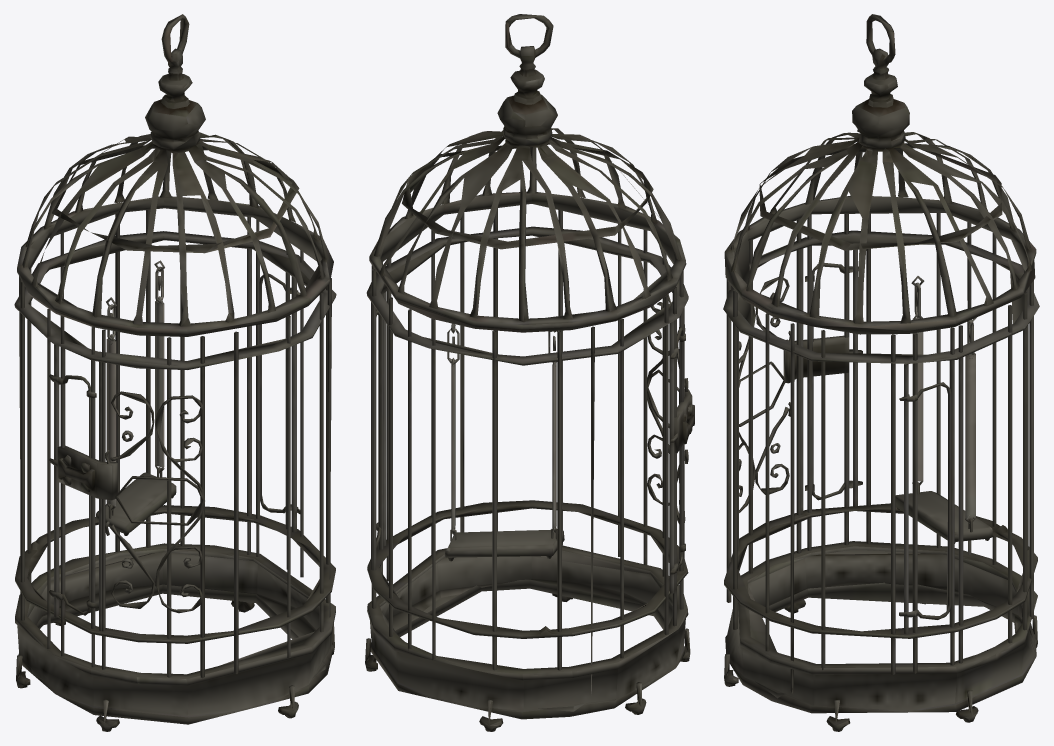
The model's file is cage.glb.
The picture shows the model from 3 angles, left to right: view 1: azimuth 30°, elevation 25°; view 2: azimuth 150°, elevation 25°; view 3: azimuth 270°, elevation 25°; orthographic projection.
Visible parts, largest first — view 1: tripo_node_3364588a-a1c7-4945-8cac-145d9012255f; view 2: tripo_node_3364588a-a1c7-4945-8cac-145d9012255f; view 3: tripo_node_3364588a-a1c7-4945-8cac-145d9012255f.
Part boxes in pixels (x1=…): tripo_node_3364588a-a1c7-4945-8cac-145d9012255f: x1=14, y1=14, x2=336, y2=731; tripo_node_3364588a-a1c7-4945-8cac-145d9012255f: x1=365, y1=14, x2=694, y2=731; tripo_node_3364588a-a1c7-4945-8cac-145d9012255f: x1=723, y1=14, x2=1039, y2=731.
Bounding box in the file's own units: 0.4409 × 0.9941 × 0.4414.
1 material, 1 textured.
